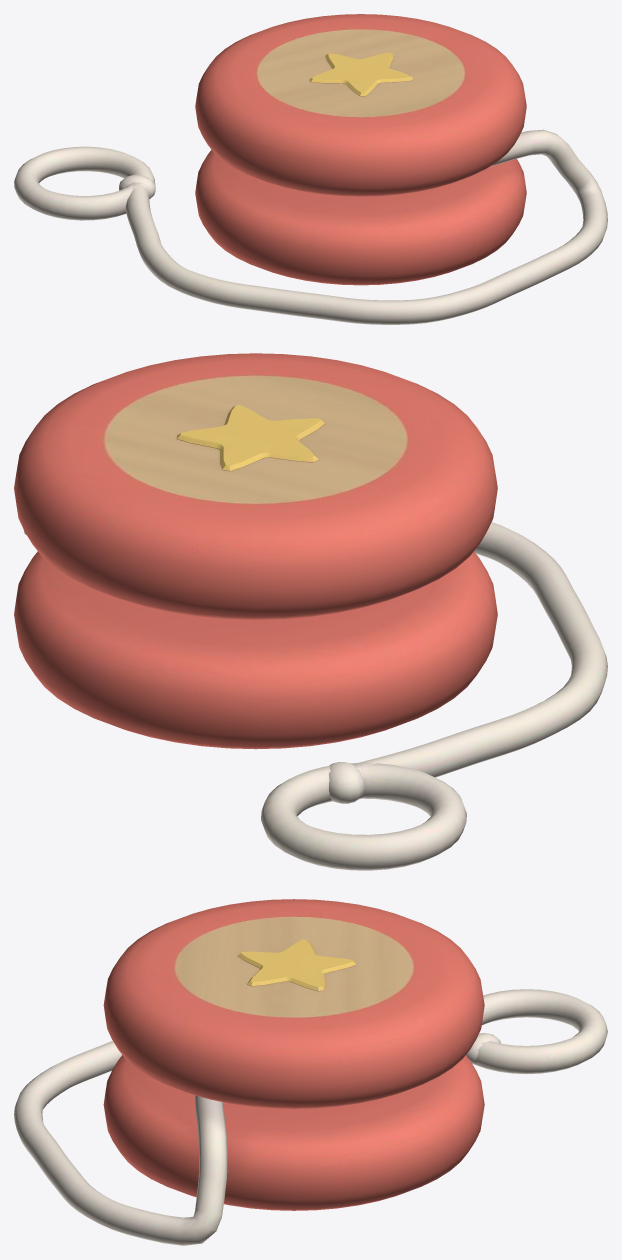
The model's file is yoyo.glb.
3 renders of one model, top to bottom at view 1: azimuth 30°, elevation 25°; view 2: azimuth 150°, elevation 25°; view 3: azimuth 270°, elevation 25°, orthographic. The views are drawn at different scales.
Visible parts, largest first — view 1: yo-yo_body; view 2: yo-yo_body; view 3: yo-yo_body.
Part boxes in pixels (x1,y1,x2,y2): yo-yo_body: (14, 14, 607, 324); yo-yo_body: (14, 353, 607, 870); yo-yo_body: (14, 899, 607, 1245).
Size of the model in its own units: 0.0893 by 0.0305 by 0.092.
Materials: 1 (1 with a texture image).
